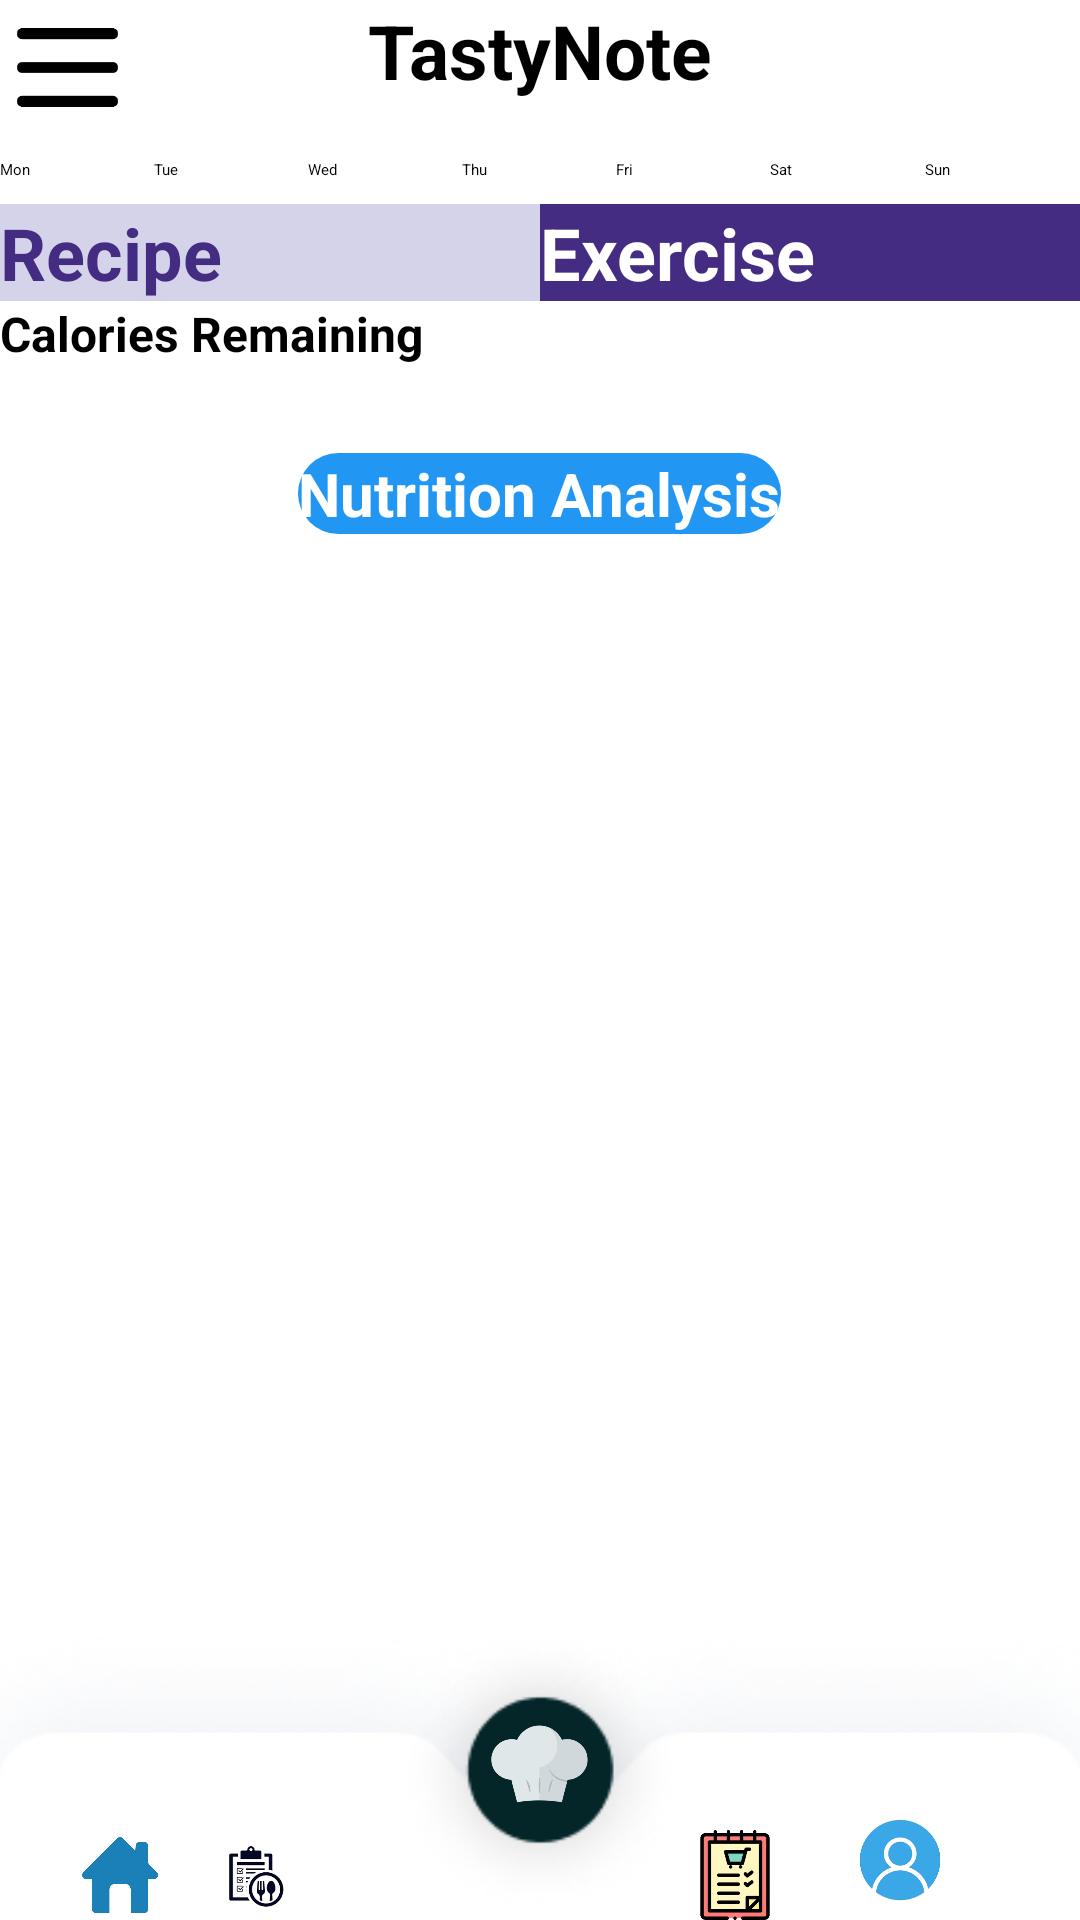

Icons on this 1080 x 1920 Android screen, each with its box as (x1, y1, x2, y2):
chef hat: (465, 1696, 614, 1833)
grocery list: (700, 1830, 770, 1920)
